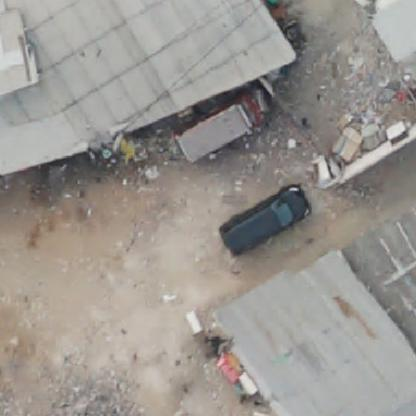car: (219, 183, 316, 253)
truck: (165, 95, 273, 156)
